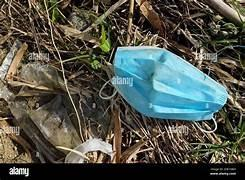Mask: (112, 46, 227, 120)
